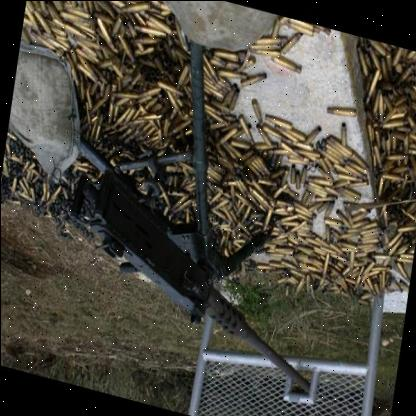rifle: (38, 147, 334, 395)
